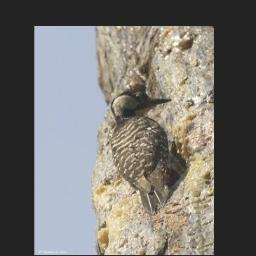Woodpecker: (109, 88, 188, 218)
